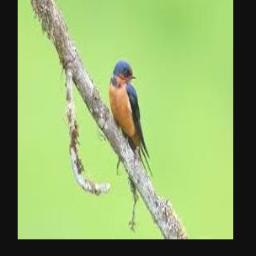Swallow: (109, 60, 152, 180)
